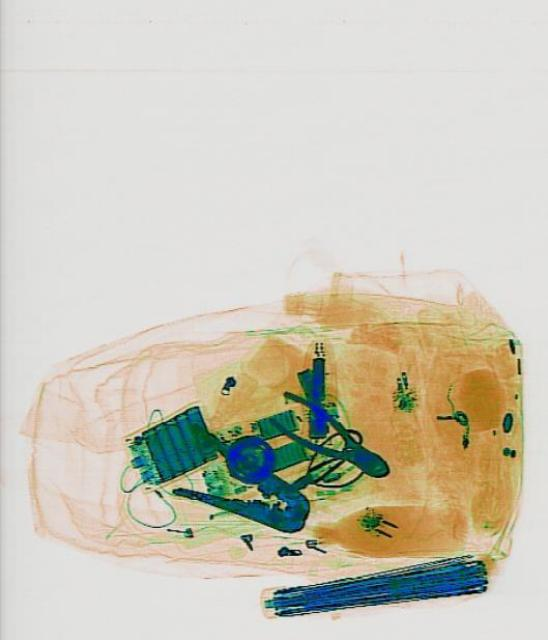Pliers: (167, 425, 319, 553), (262, 384, 396, 492)
Scissors: (265, 420, 377, 520)
